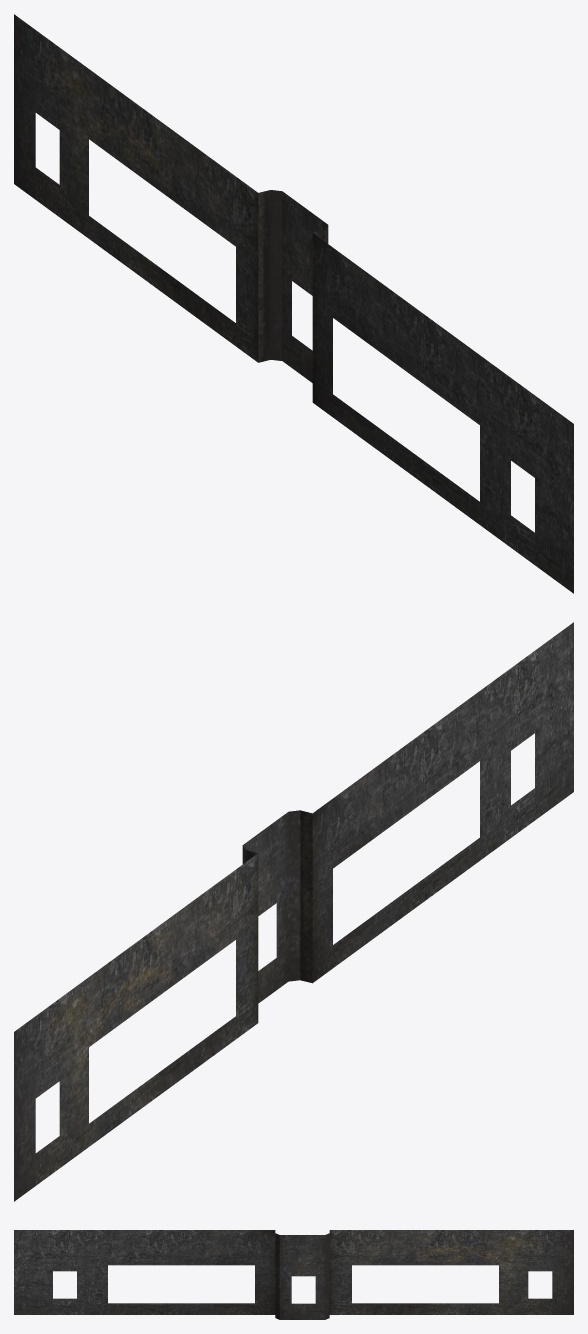
The model's file is Wall_04.FBX.
The picture shows the model from 3 angles, top to bottom: view 1: azimuth 30°, elevation 25°; view 2: azimuth 150°, elevation 25°; view 3: azimuth 270°, elevation 25°; orthographic projection. The views are drawn at different scales.
Visible parts, largest first — view 1: Wall_04; view 2: Wall_04; view 3: Wall_04.
Part boxes in pixels (bbox=[...]): Wall_04: bbox=[14, 14, 573, 593]; Wall_04: bbox=[14, 622, 573, 1201]; Wall_04: bbox=[14, 1230, 573, 1319].
Bounding box in the file's own units: 62.38 × 511 × 3053.
